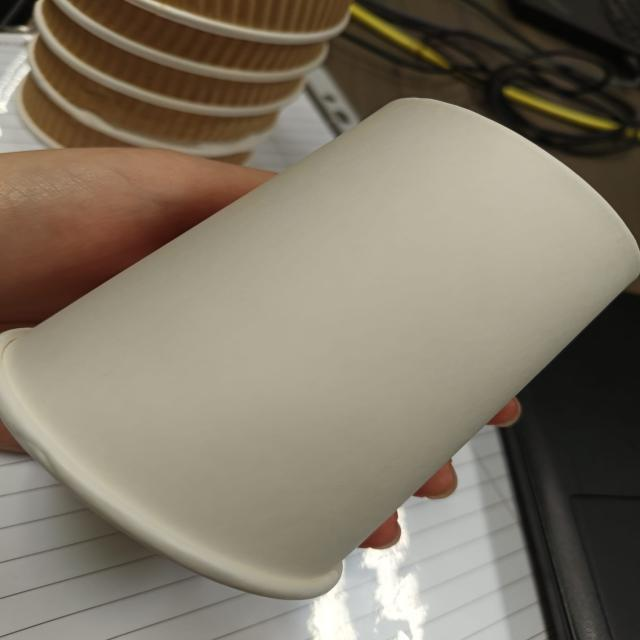Browncup: (28, 40, 283, 152), (42, 0, 306, 108), (19, 75, 261, 168), (60, 1, 332, 76), (146, 0, 357, 41)
Whitecup: (0, 99, 640, 603)
